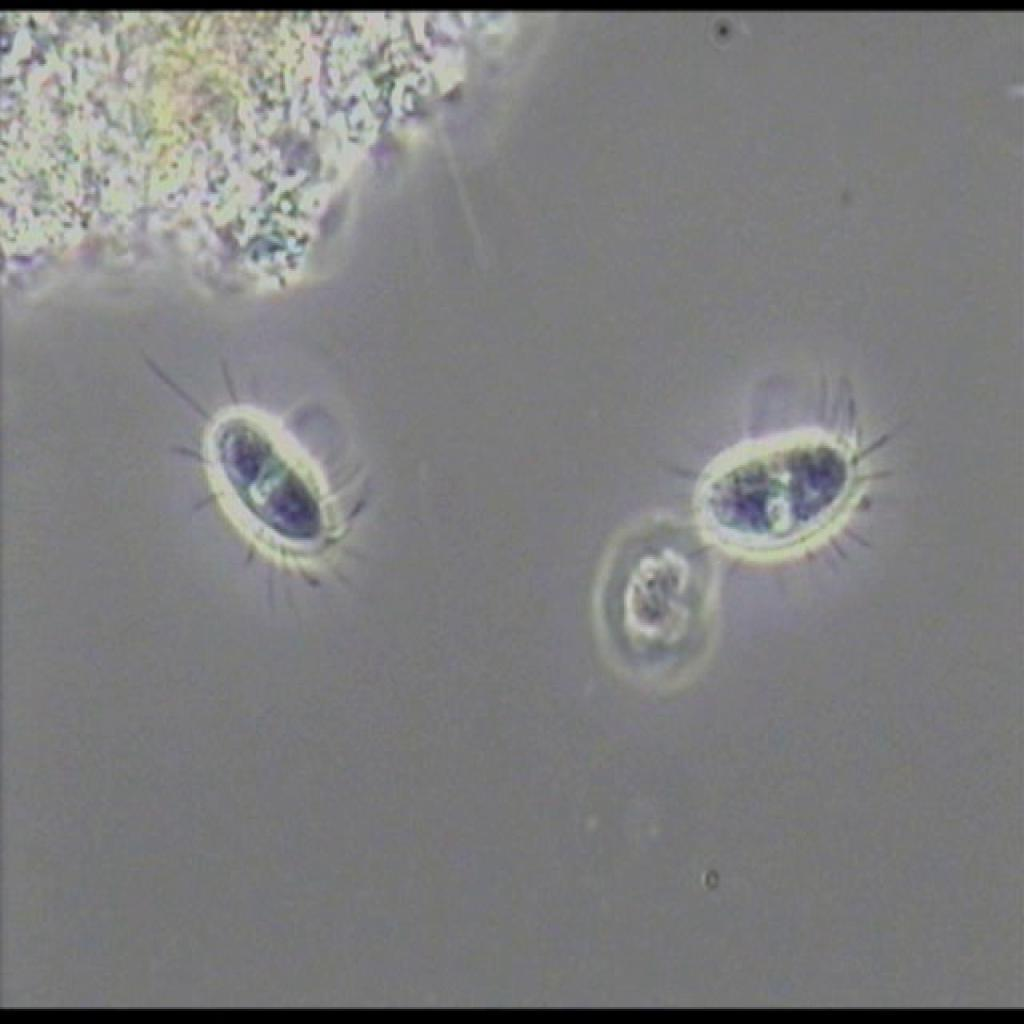Cyclidium: (106, 323, 411, 626), (654, 383, 917, 598)
